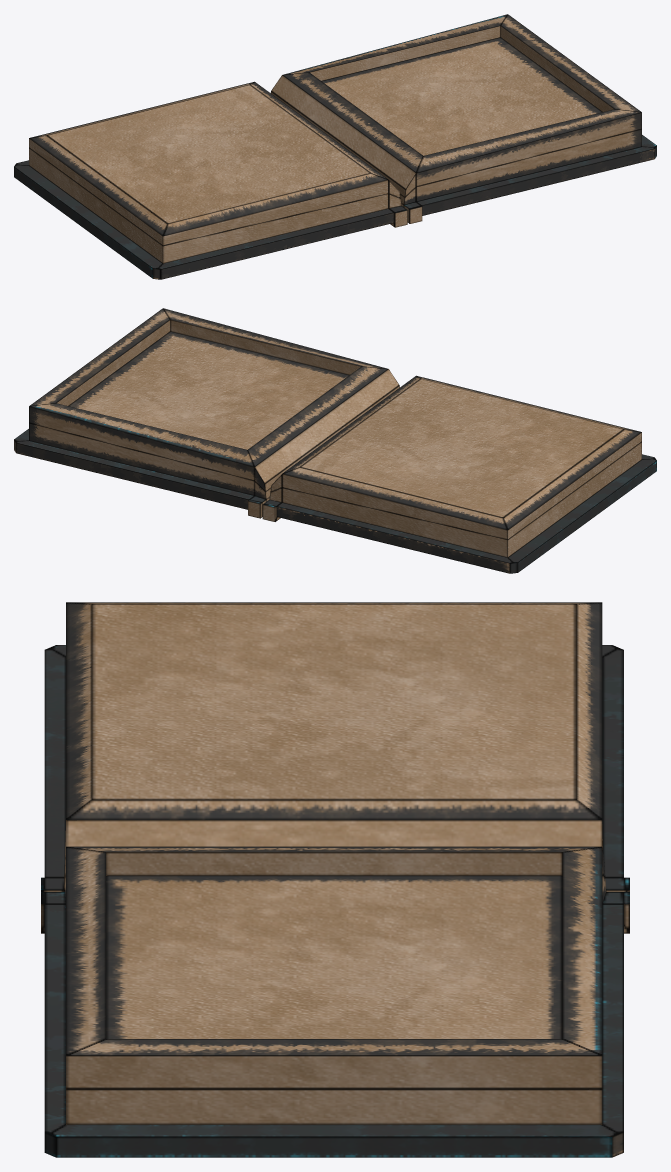
Rendered from OpenBook.fbx.
3 renders of one model, top to bottom at view 1: azimuth 30°, elevation 25°; view 2: azimuth 150°, elevation 25°; view 3: azimuth 270°, elevation 25°, orthographic. The views are drawn at different scales.
Visible parts, largest first — view 1: LargeBook.001; view 2: LargeBook.001; view 3: LargeBook.001.
Boxes of the visible parts, <box> form: LargeBook.001: <box>14,14,656,279</box>; LargeBook.001: <box>14,308,656,573</box>; LargeBook.001: <box>41,602,629,1157</box>.
Size of the model in its own units: 100 by 9.36 by 50.82.
